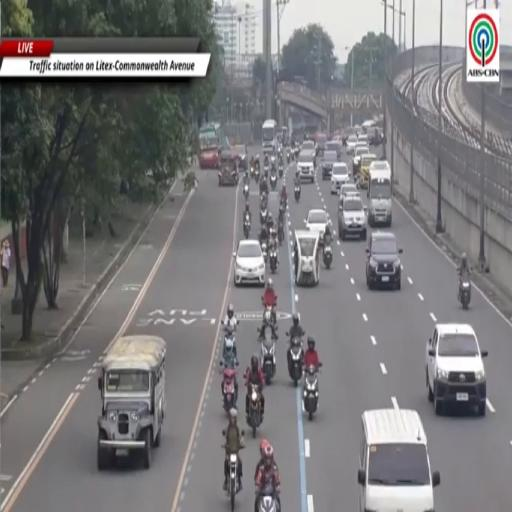bus: (262, 120, 277, 153)
car: (426, 324, 488, 415), (366, 232, 402, 290), (293, 230, 320, 285), (234, 239, 265, 285), (339, 197, 366, 241), (306, 210, 328, 244), (359, 153, 377, 188), (352, 143, 369, 179), (331, 163, 350, 194), (297, 150, 314, 183), (339, 184, 360, 209), (322, 151, 337, 180), (301, 140, 316, 167), (199, 148, 218, 169), (233, 144, 247, 170), (326, 139, 341, 161), (340, 183, 359, 198), (316, 134, 327, 155), (346, 134, 357, 154), (358, 134, 368, 146)
jeepney: (98, 335, 166, 470), (218, 150, 238, 186)
motorcycle: (220, 360, 237, 412), (303, 366, 318, 421), (288, 338, 303, 387), (248, 384, 261, 438), (227, 454, 239, 511), (261, 338, 275, 385), (264, 306, 277, 340), (459, 276, 471, 310), (259, 491, 279, 511), (322, 244, 332, 269), (269, 247, 277, 274), (278, 219, 284, 246), (280, 191, 287, 211), (260, 207, 267, 226), (244, 216, 250, 238), (261, 242, 267, 263), (259, 178, 266, 194), (270, 172, 276, 190), (294, 185, 300, 202), (243, 184, 249, 200), (254, 168, 260, 183), (279, 164, 283, 178), (264, 165, 269, 176), (250, 166, 254, 179), (287, 150, 290, 163)
